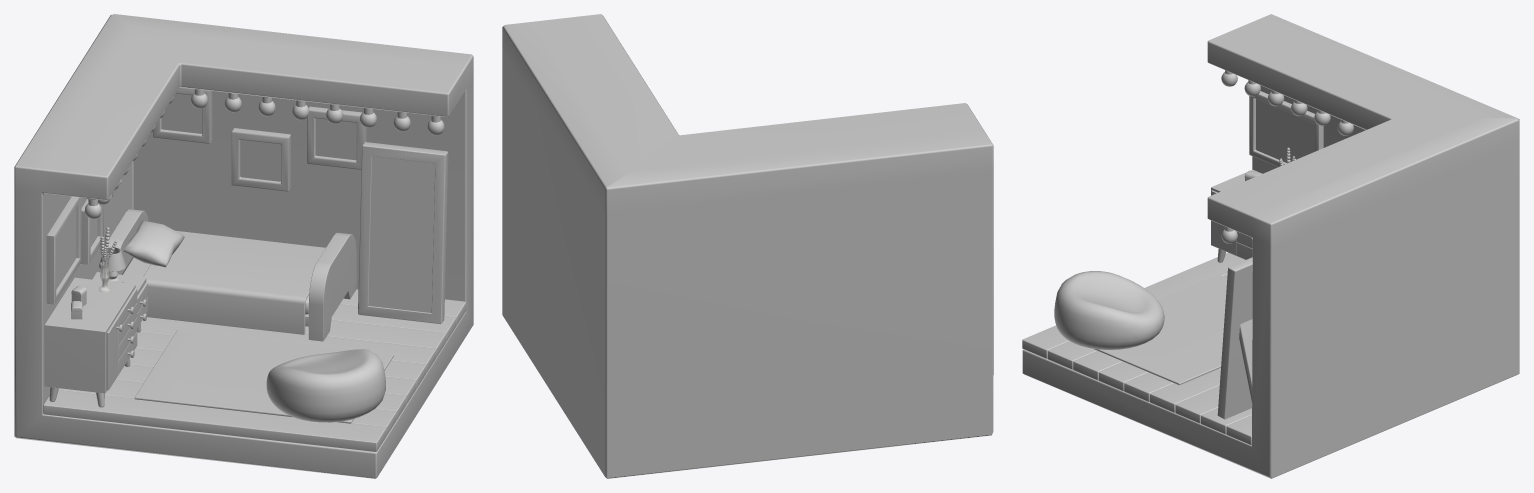
The model's file is Bedroom_15.fbx.
The picture shows the model from 3 angles, left to right: view 1: azimuth 30°, elevation 25°; view 2: azimuth 150°, elevation 25°; view 3: azimuth 270°, elevation 25°; orthographic projection. The views are drawn at different scales.
Parts seen in each view (by area): view 1: Room_15_Wall_1, Room_15_Floor_1, Room_15_Bed_1, Room_15_Mirror_1, Room_15_Carpet_1, Room_15_Cabinet_1, Room_15_Baen_bag_1, Room_15_Painting_2, Room_15_Painting_3, Room_15_Painting_4, Room_15_Painting_1, Room_15_Pillow_1 (+4 smaller); view 2: Room_15_Wall_1; view 3: Room_15_Wall_1, Room_15_Floor_1, Room_15_Carpet_1, Room_15_Baen_bag_1, Room_15_Mirror_1, Room_15_Painting_4, Room_15_Cabinet_1.
Part boxes in pixels (box(x1,y1,x2,y2)): Room_15_Wall_1: box(14, 14, 473, 478); Room_15_Floor_1: box(43, 289, 466, 451); Room_15_Bed_1: box(106, 209, 356, 341); Room_15_Mirror_1: box(358, 142, 448, 324); Room_15_Carpet_1: box(134, 329, 393, 423); Room_15_Cabinet_1: box(44, 277, 137, 407); Room_15_Baen_bag_1: box(266, 349, 385, 422); Room_15_Painting_2: box(231, 128, 290, 191); Room_15_Painting_3: box(307, 106, 366, 169); Room_15_Painting_4: box(46, 196, 81, 304); Room_15_Painting_1: box(153, 87, 212, 143); Room_15_Pillow_1: box(123, 220, 184, 267); Room_15_Wall_1: box(502, 14, 993, 478); Room_15_Wall_1: box(1022, 14, 1519, 478); Room_15_Floor_1: box(1022, 252, 1251, 445); Room_15_Carpet_1: box(1093, 274, 1227, 385); Room_15_Baen_bag_1: box(1054, 271, 1164, 349); Room_15_Mirror_1: box(1217, 257, 1252, 419); Room_15_Painting_4: box(1249, 91, 1323, 166); Room_15_Cabinet_1: box(1211, 169, 1261, 262).
Bounding box in the file's own units: 703 × 400 × 704.
